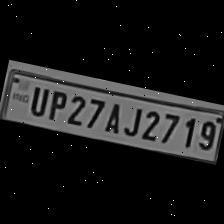1: (174, 111, 198, 150)
2: (61, 89, 88, 127), (136, 105, 163, 143)
7: (79, 93, 106, 131), (155, 108, 181, 146)
9: (192, 114, 220, 154)
A: (98, 97, 125, 135)
J: (118, 100, 144, 140)
P: (42, 86, 68, 124)
U: (24, 82, 50, 118)
